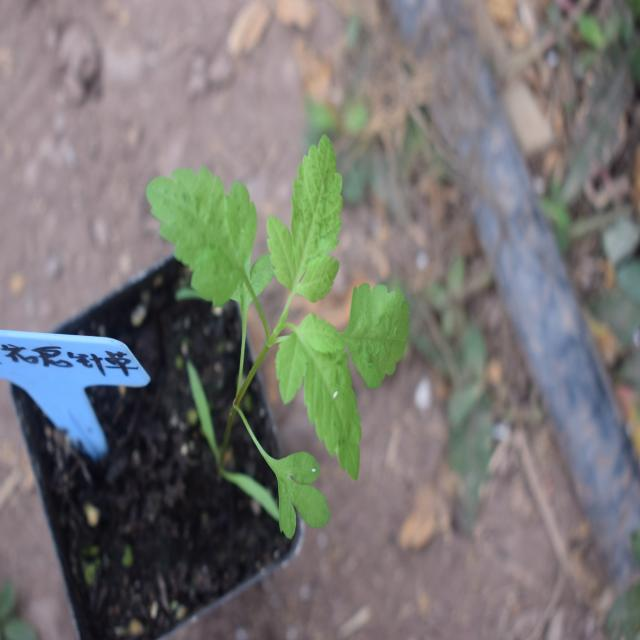Bidens pilosa: (120, 149, 410, 548)
